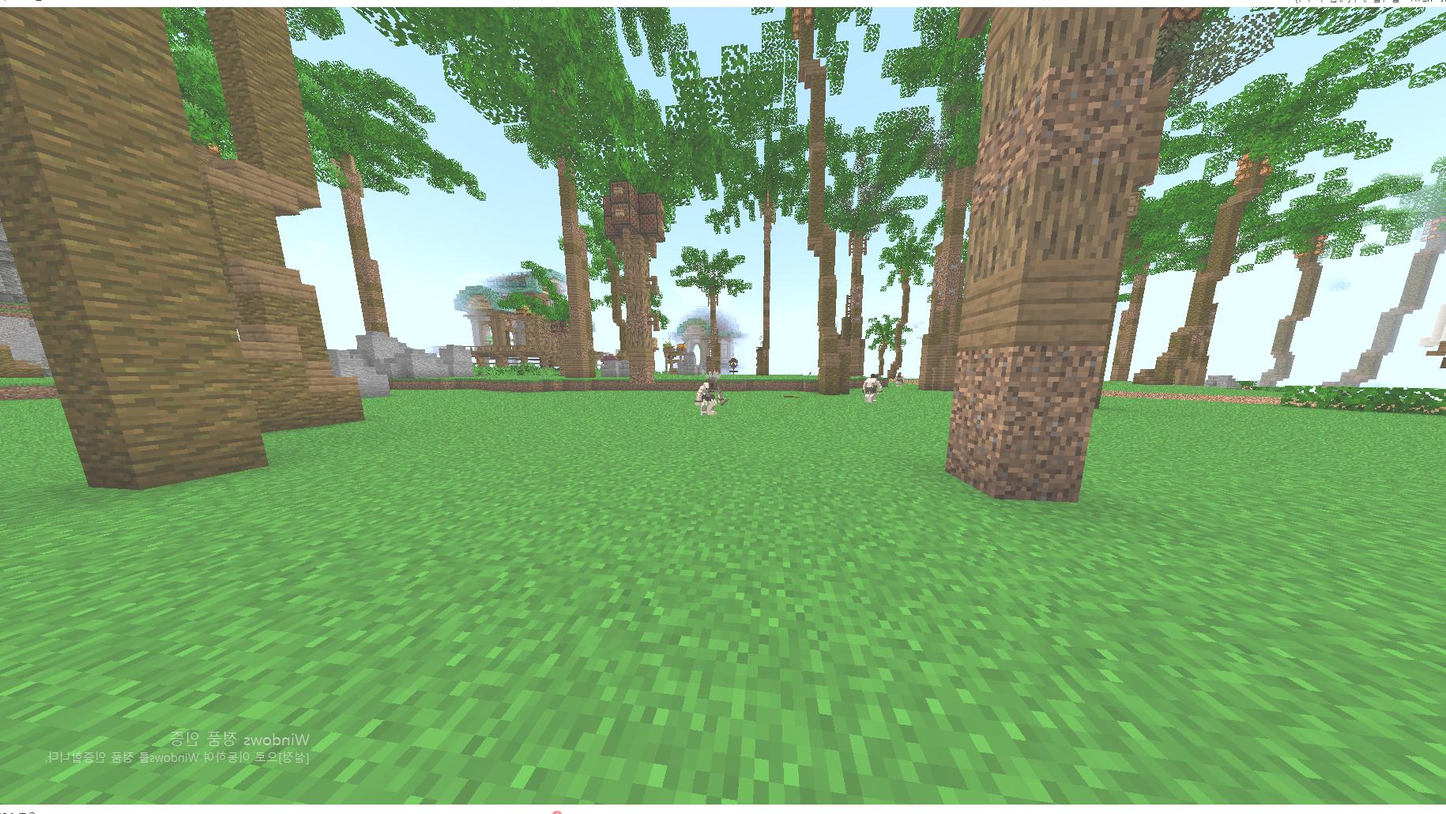bow_indian: (687, 374, 731, 424)
